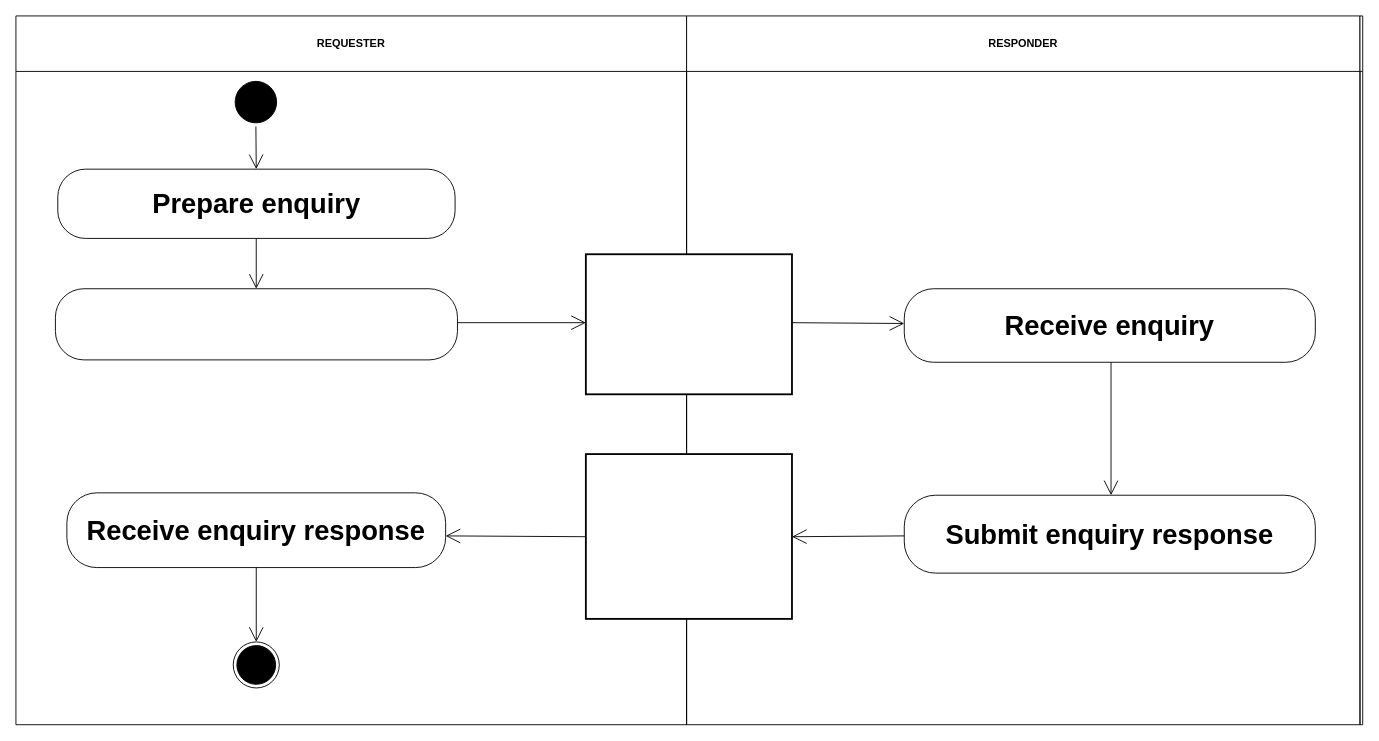
Some shapes in this 1379 by 741 pixel diagram are drawn without their labels. The shapes that lost their labels are listed below. From the top down, each one's centre as x and y in pixels, then its label:
At point (256, 324): "Submit enquiry".
At point (688, 324): "Enquiry".
At point (688, 536): "Enquiry Response".
